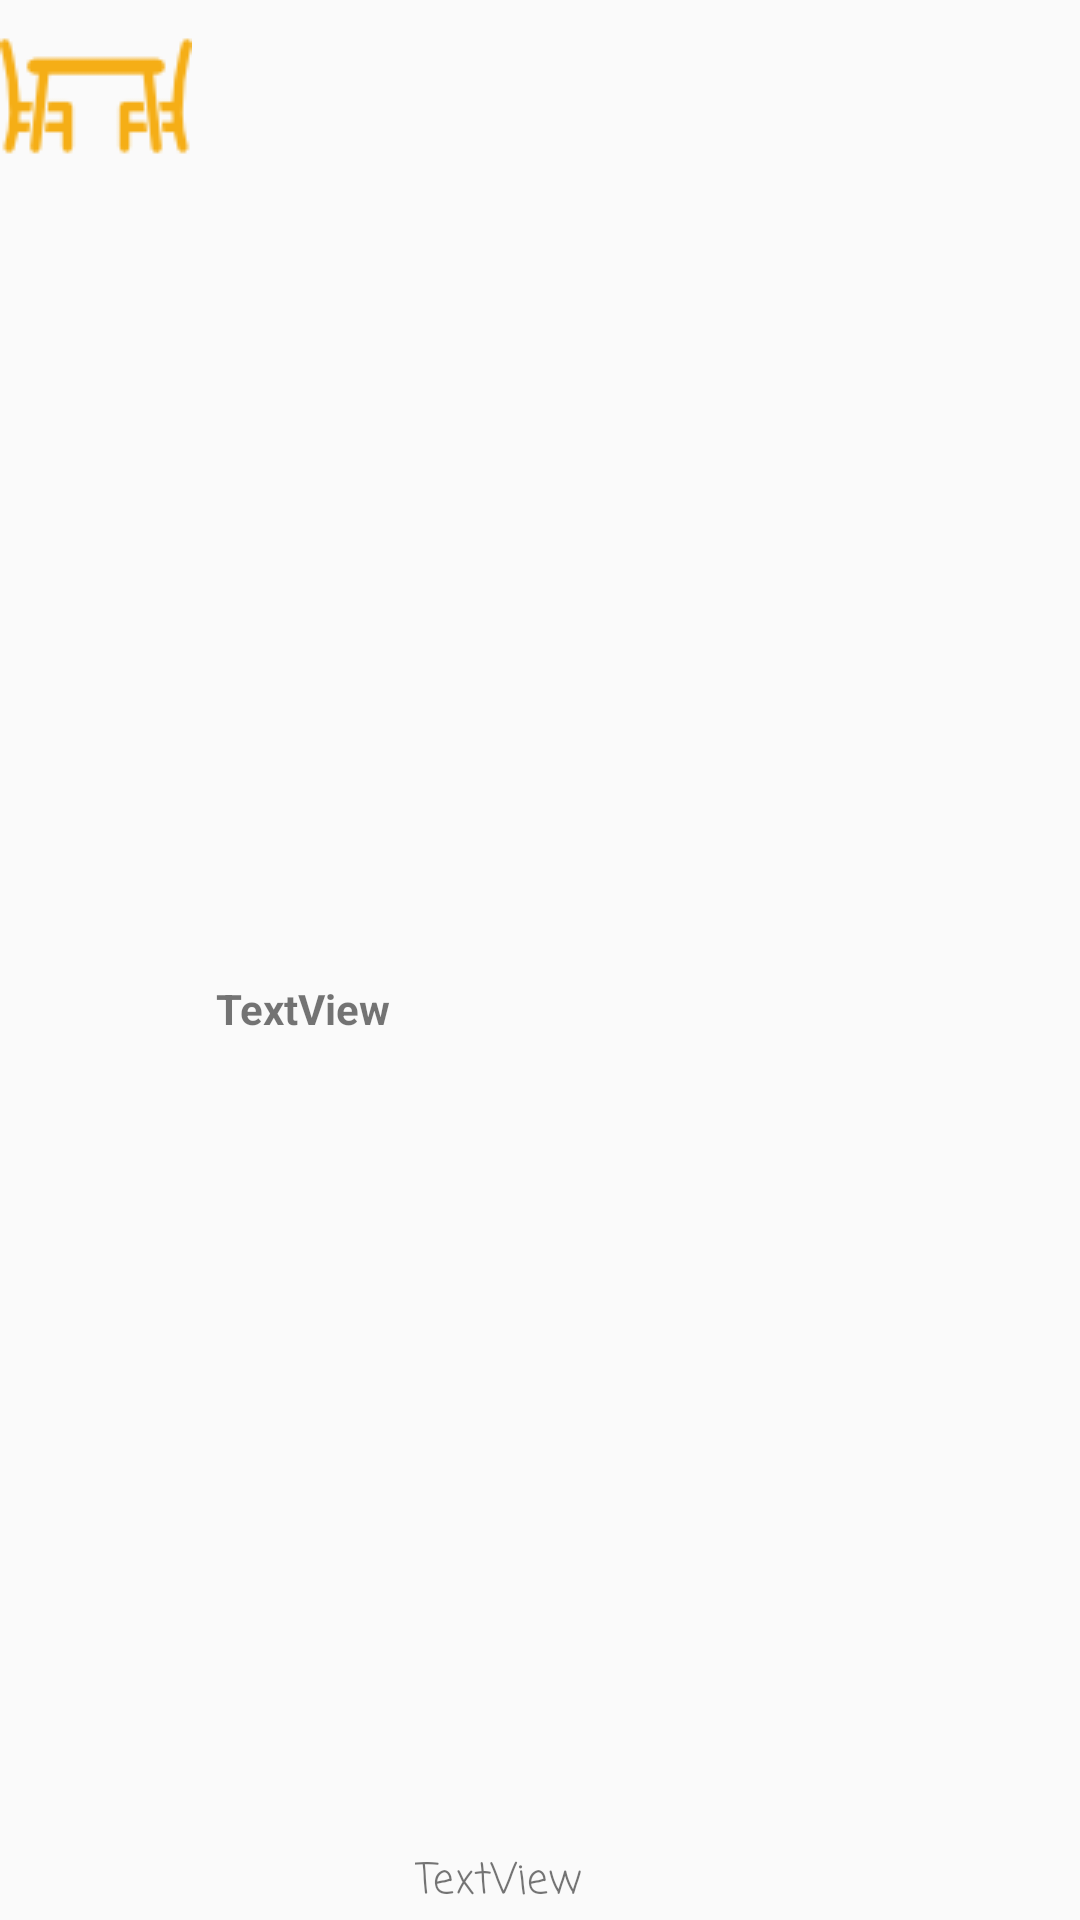

Where icons sit on this 1080x1920 app screen, as {"x1": x1, "y1": y1, "x2": x2, "y2": y2}:
dining table: {"x1": 0, "y1": 38, "x2": 192, "y2": 154}
